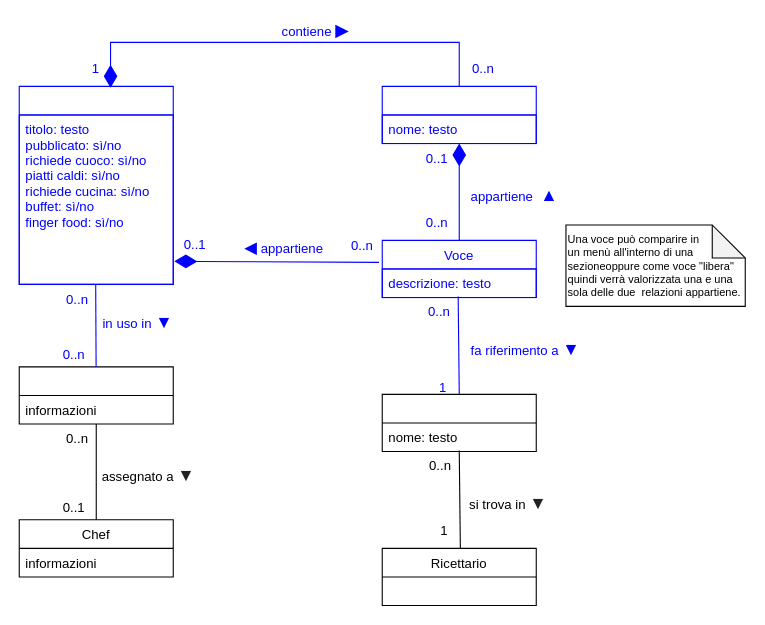
Some shapes in this 765 by 625 pixel diagram are drawn without their labels. The shapes that lost their labels are listed below. From the top down, each one's box as (x1, y1, x2, y2) in pixels, then its label:
(381, 85, 536, 144): Sezione
(18, 85, 173, 284): Menù
(18, 366, 173, 424): Evento
(381, 393, 536, 452): Ricetta
